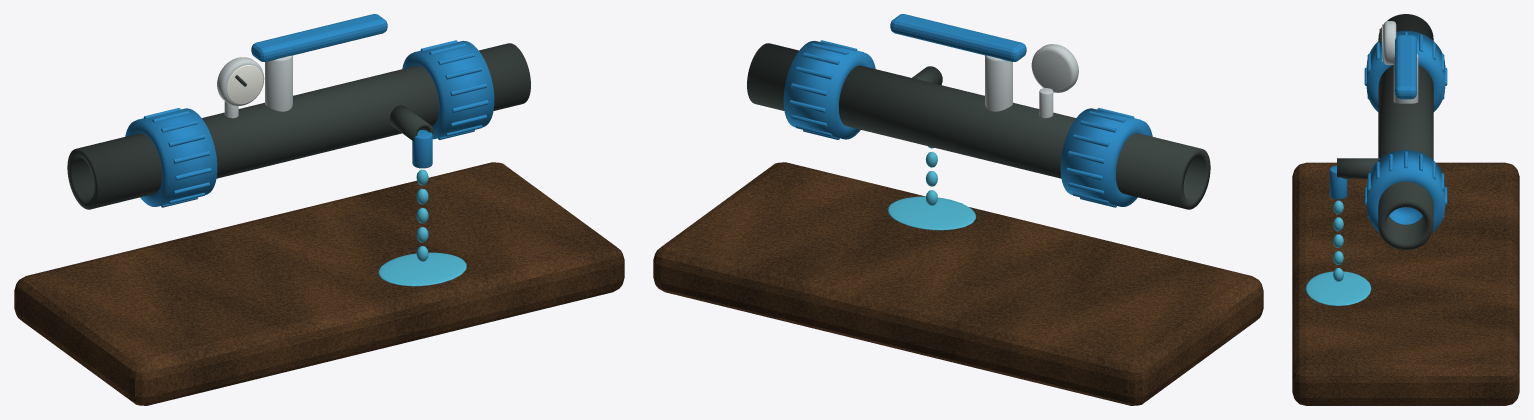
Rendered from water.glb.
3 views of the same model, side by side, from view 1: azimuth 30°, elevation 25°; view 2: azimuth 150°, elevation 25°; view 3: azimuth 270°, elevation 25° (orthographic). The views are drawn at different scales.
Parts seen in each view (by area): view 1: Cutaway ground, Main irrigation pipe, Blue compression coupling, Blue compression coupling.001, Valve lever, Water at soil surface, Valve stem, Gauge face, Drip outlet, Pressure gauge housing, Emitter nozzle; view 2: Cutaway ground, Main irrigation pipe, Blue compression coupling, Blue compression coupling.001, Valve lever, Water at soil surface, Pressure gauge housing, Valve stem; view 3: Cutaway ground, Main irrigation pipe, Blue compression coupling.001, Blue compression coupling, Water at soil surface, Valve lever, Drip outlet, Pressure gauge housing, Emitter nozzle, Valve stem.
Boxes of the visible parts, x1,y1,x2,y2 form: Cutaway ground: (14, 162, 624, 405); Main irrigation pipe: (67, 43, 530, 209); Blue compression coupling: (125, 108, 217, 206); Blue compression coupling.001: (402, 40, 494, 139); Valve lever: (251, 14, 387, 61); Water at soil surface: (378, 252, 466, 286); Valve stem: (265, 55, 292, 111); Gauge face: (226, 65, 263, 104); Drip outlet: (390, 105, 433, 141); Pressure gauge housing: (217, 57, 264, 105); Emitter nozzle: (412, 130, 432, 168); Cutaway ground: (653, 162, 1263, 405); Main irrigation pipe: (747, 43, 1210, 209); Blue compression coupling: (1060, 108, 1152, 206); Blue compression coupling.001: (783, 40, 875, 139); Valve lever: (890, 14, 1026, 61); Water at soil surface: (887, 196, 975, 230); Pressure gauge housing: (1031, 44, 1078, 92); Valve stem: (985, 55, 1012, 111); Cutaway ground: (1292, 162, 1519, 405); Main irrigation pipe: (1378, 14, 1433, 250); Blue compression coupling.001: (1366, 150, 1445, 232); Blue compression coupling: (1366, 30, 1445, 111); Water at soil surface: (1305, 271, 1371, 305); Valve lever: (1395, 35, 1416, 99); Drip outlet: (1337, 158, 1380, 178); Pressure gauge housing: (1384, 21, 1396, 64); Emitter nozzle: (1329, 165, 1347, 199); Valve stem: (1393, 54, 1418, 103).
Bounding box in the file's own units: 3.65 × 1.95 × 1.65.
6 materials, 1 textured.
